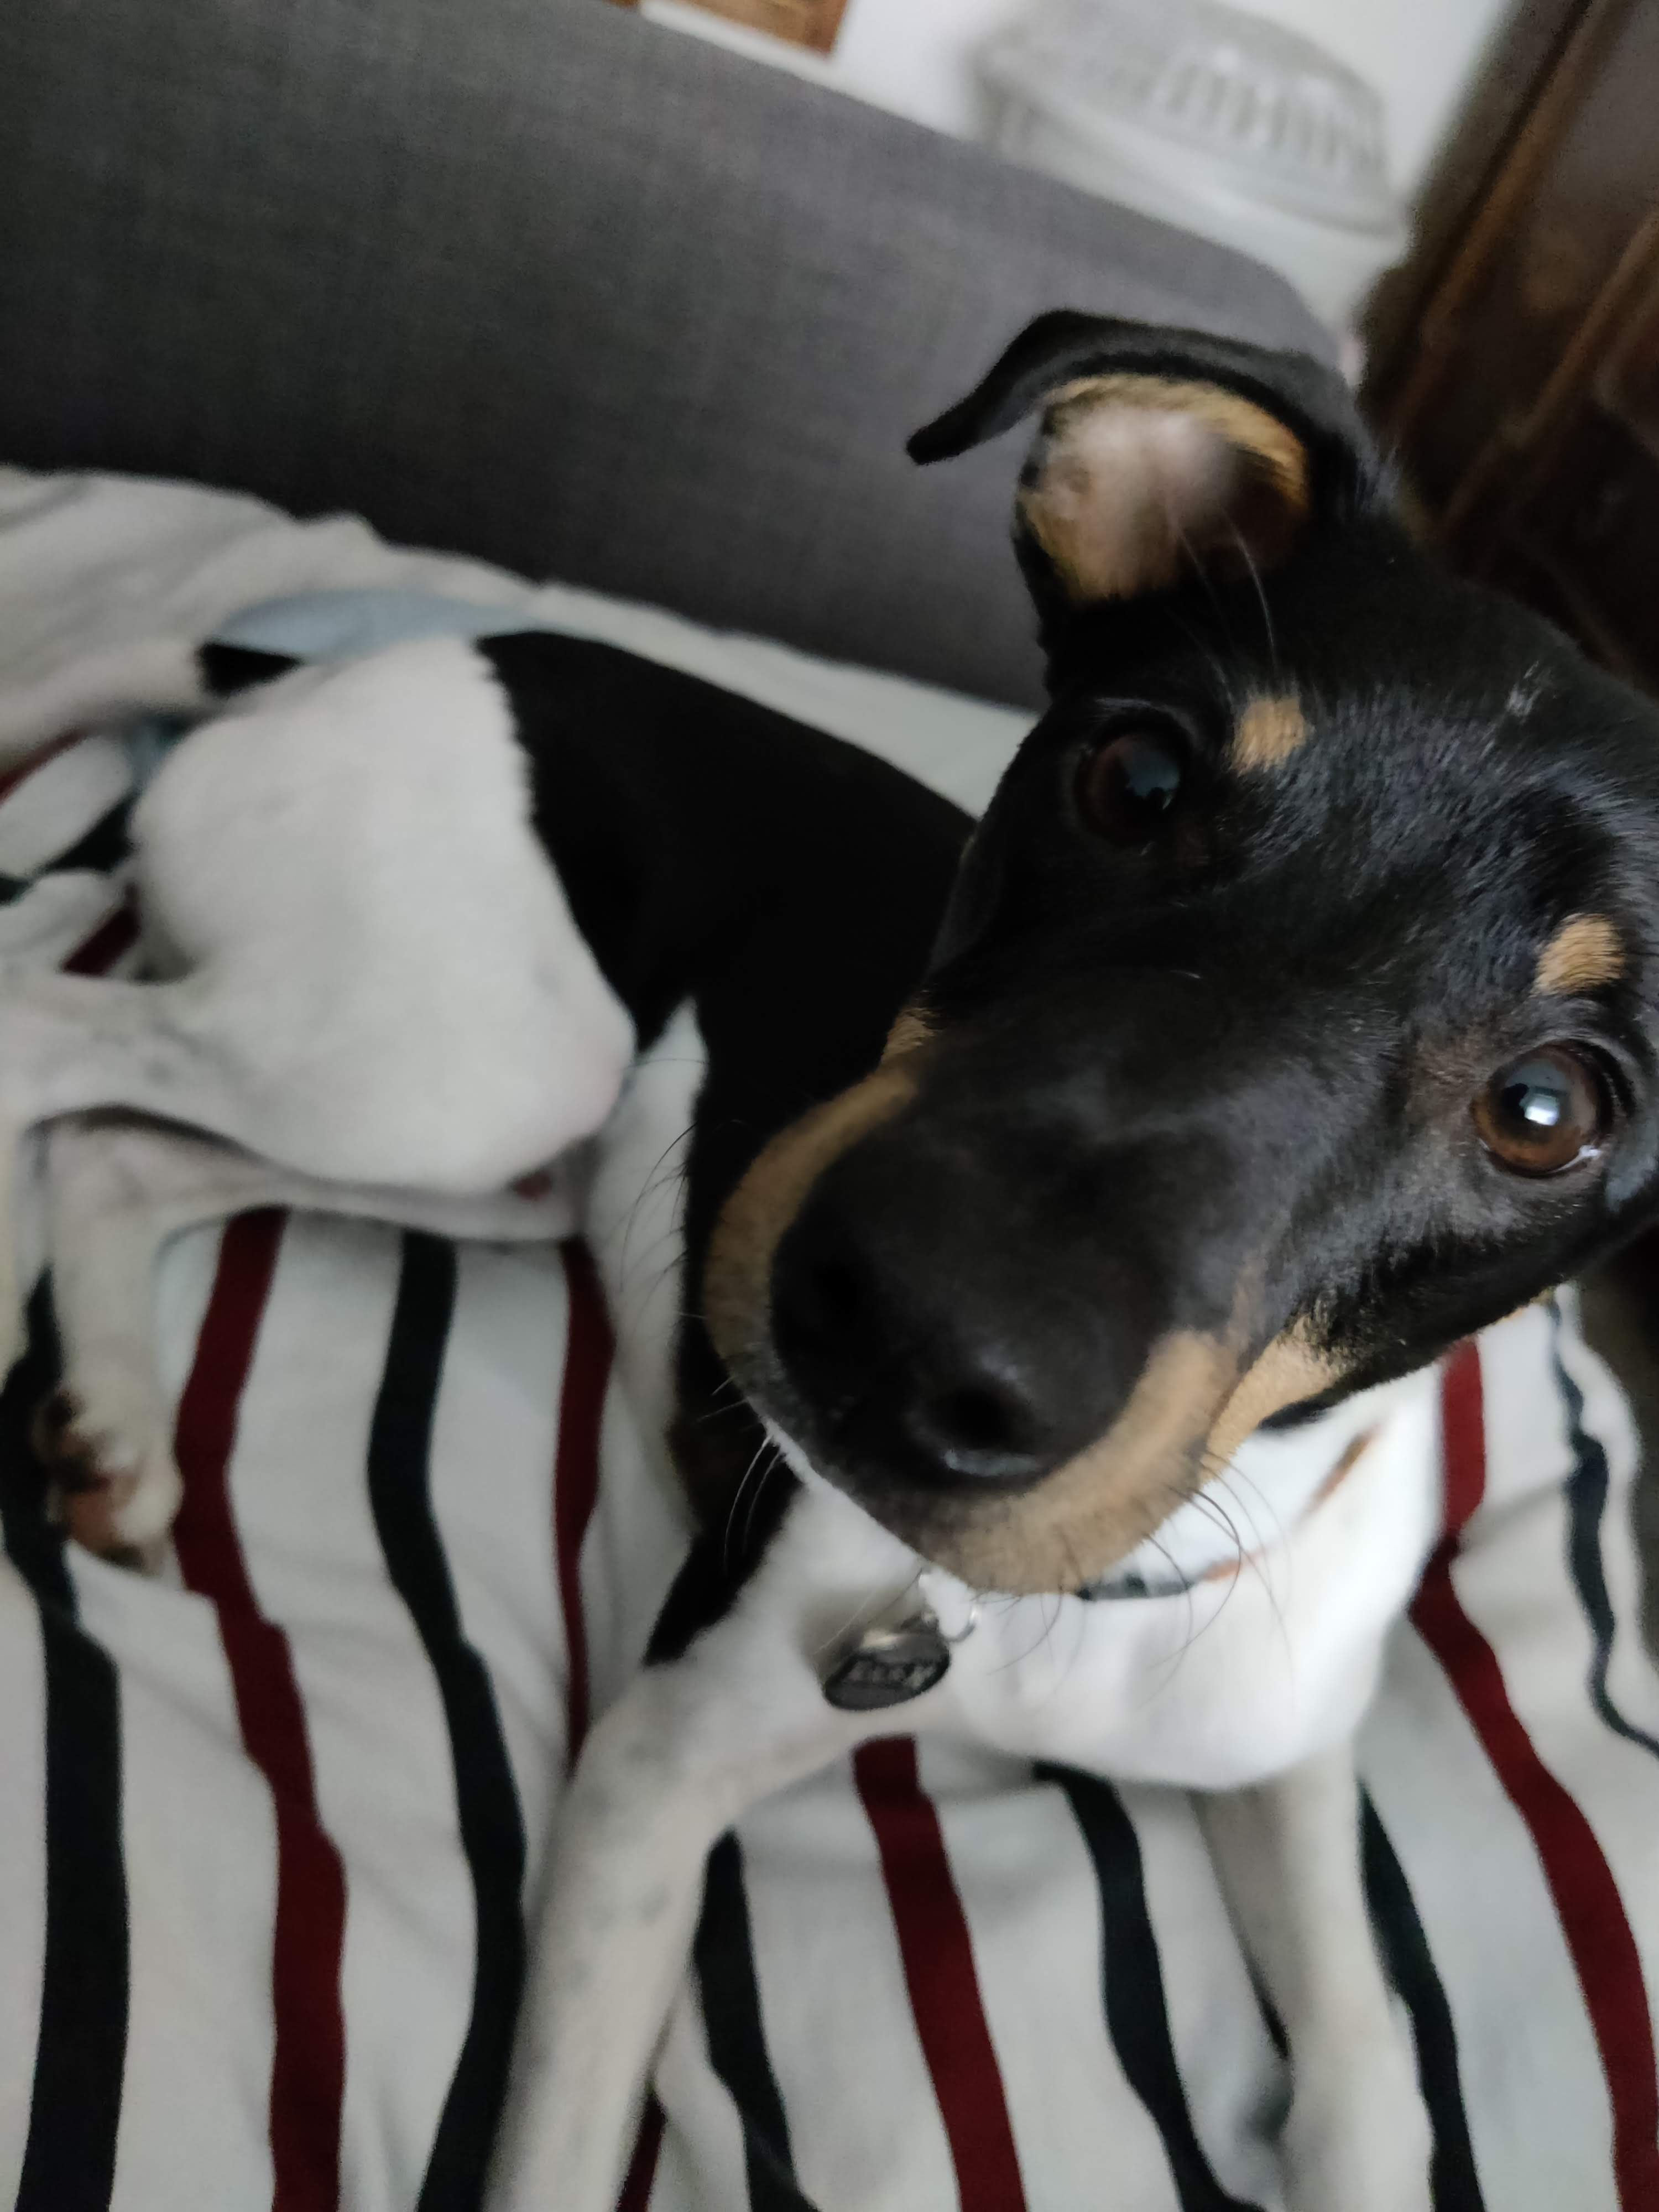Dog: (0, 273, 1659, 2212)
